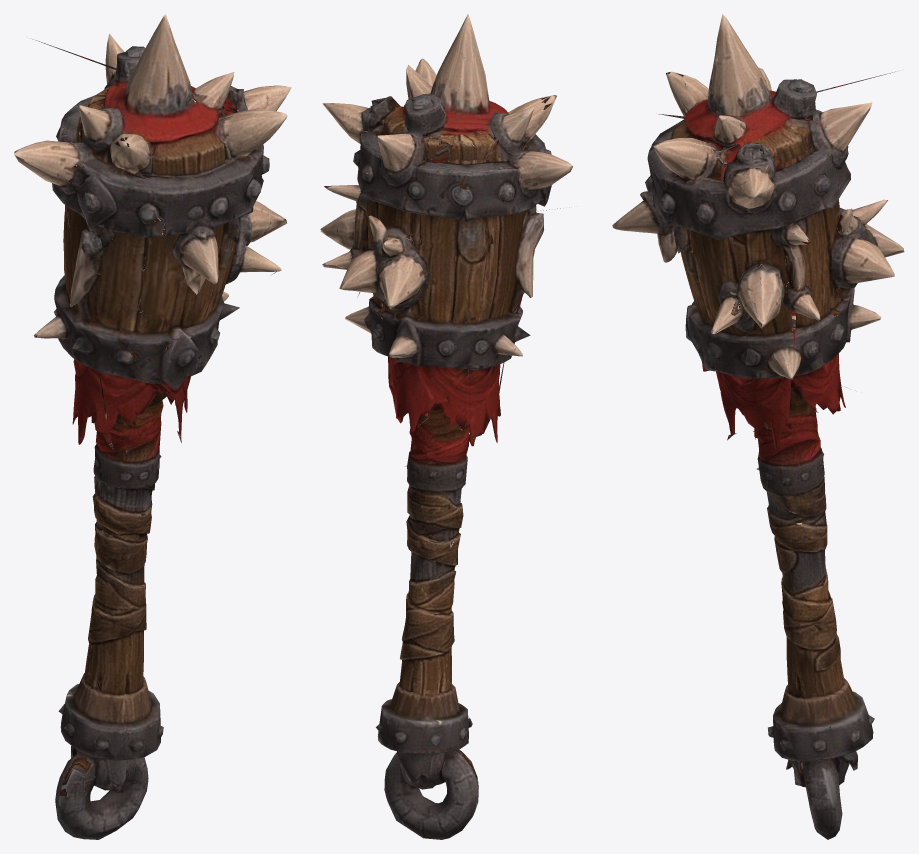
File: mace.glb
3 renders of one model, left to right at view 1: azimuth 30°, elevation 25°; view 2: azimuth 150°, elevation 25°; view 3: azimuth 270°, elevation 25°, orthographic. The views are drawn at different scales.
Visible parts, largest first — view 1: world; view 2: world; view 3: world.
Boxes of the visible parts, box(x1,y1,x2,y2) form: world: box(14, 14, 291, 839); world: box(320, 14, 573, 839); world: box(612, 14, 904, 839).
Bounding box in the file's own units: 0.6394 × 1.9 × 0.6099.
1 material, 1 textured.
